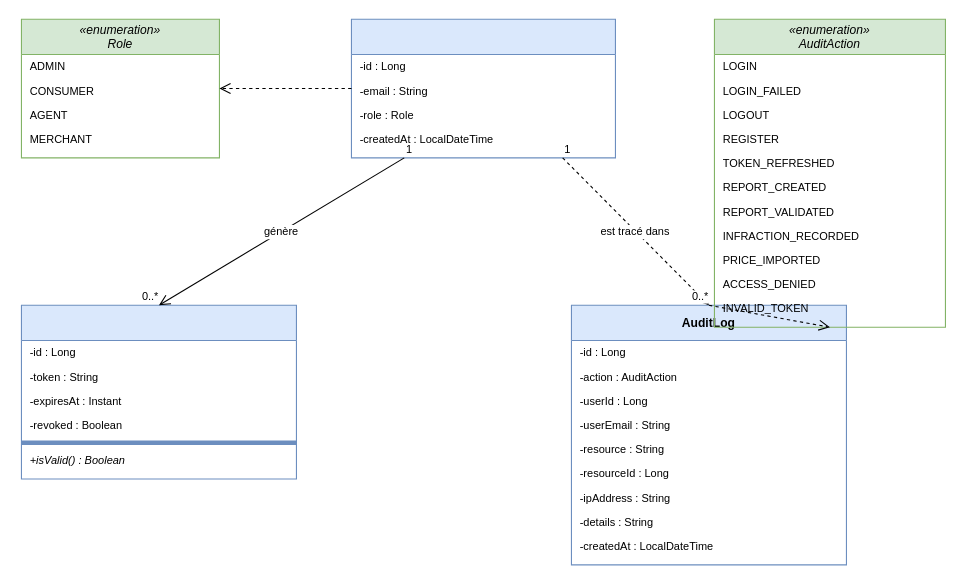
The diagram is 965 pixels wide and 584 high, and some of its shapes have lost their labels. Here are the shapes that lost their labels. From the top down, the box of each, then its label:
(350, 18, 615, 158): User
(20, 304, 296, 479): RefreshToken
